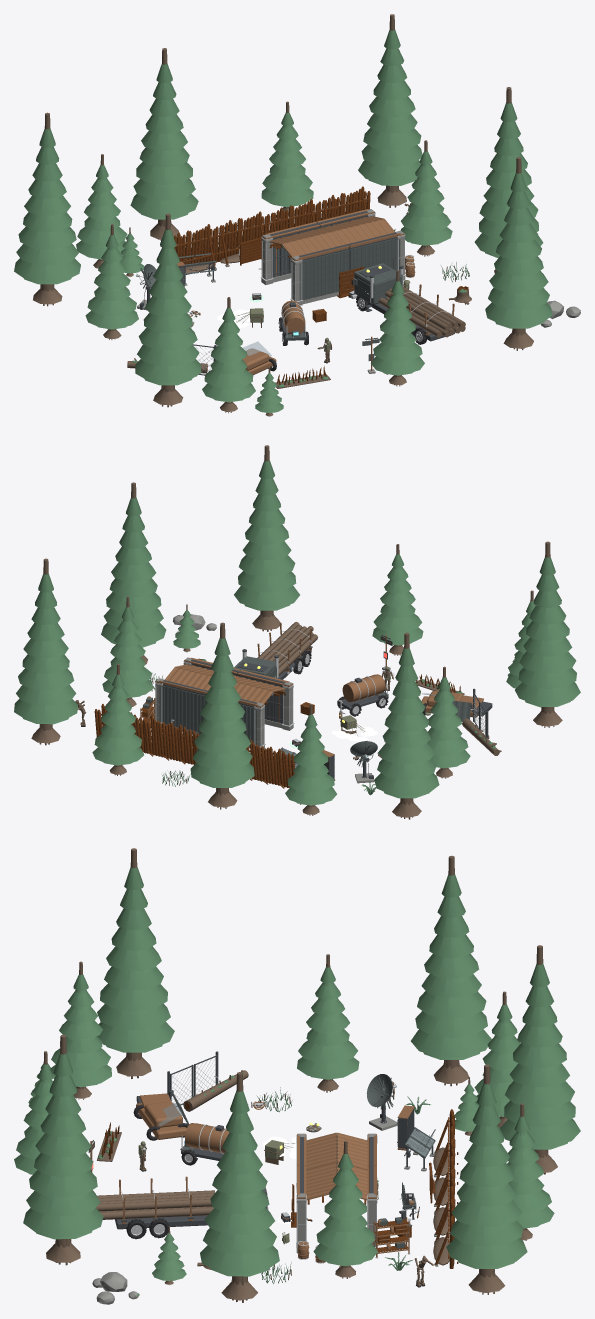
File: fps-survival-forest-outpost-roadside-landing-and-cache-57d2a1cb__32713.glb
3 renders of one model, top to bottom at view 1: azimuth 30°, elevation 25°; view 2: azimuth 150°, elevation 25°; view 3: azimuth 270°, elevation 25°, orthographic. The views are drawn at different scales.
Visible parts, largest first — view 1: 054-conifer-tall/1, 053-conifer-tall/1, 055-conifer-tall/1, 052-conifer-tall/1, 051-conifer-tall/1, 050-conifer-tall/1, 060-conifer-mid/1, 061-conifer-mid/1, 059-conifer-mid/1, 057-conifer-mid/1, 056-conifer-mid/1, 058-conifer-mid/1 (+20 smaller); view 2: 053-conifer-tall/1, 055-conifer-tall/1, 051-conifer-tall/1, 054-conifer-tall/1, 052-conifer-tall/1, 050-conifer-tall/1, 057-conifer-mid/1, 058-conifer-mid/1, 061-conifer-mid/1, 056-conifer-mid/1, 059-conifer-mid/1, 001-palisade-bay/0 (+15 smaller); view 3: 051-conifer-tall/1, 050-conifer-tall/1, 053-conifer-tall/1, 055-conifer-tall/1, 054-conifer-tall/1, 052-conifer-tall/1, 056-conifer-mid/1, 059-conifer-mid/1, 060-conifer-mid/1, 057-conifer-mid/1, 004-logging-truck/7, 058-conifer-mid/1 (+16 smaller).
Part boxes in pixels (bbox=[...]): 054-conifer-tall/1: bbox=[135, 229, 201, 385]; 053-conifer-tall/1: bbox=[14, 128, 80, 284]; 055-conifer-tall/1: bbox=[485, 172, 552, 328]; 052-conifer-tall/1: bbox=[130, 63, 198, 219]; 051-conifer-tall/1: bbox=[358, 29, 422, 185]; 050-conifer-tall/1: bbox=[474, 102, 543, 258]; 060-conifer-mid/1: bbox=[202, 308, 255, 402]; 061-conifer-mid/1: bbox=[371, 281, 424, 375]; 059-conifer-mid/1: bbox=[85, 235, 138, 329]; 057-conifer-mid/1: bbox=[261, 112, 313, 207]; 056-conifer-mid/1: bbox=[400, 151, 452, 245]; 058-conifer-mid/1: bbox=[76, 165, 127, 259]; 053-conifer-tall/1: bbox=[374, 648, 439, 798]; 055-conifer-tall/1: bbox=[234, 460, 299, 610]; 051-conifer-tall/1: bbox=[14, 573, 77, 724]; 054-conifer-tall/1: bbox=[515, 556, 580, 707]; 052-conifer-tall/1: bbox=[190, 638, 254, 787]; 050-conifer-tall/1: bbox=[101, 497, 166, 647]; 057-conifer-mid/1: bbox=[92, 674, 143, 765]; 058-conifer-mid/1: bbox=[285, 714, 336, 805]; 061-conifer-mid/1: bbox=[372, 554, 423, 645]; 056-conifer-mid/1: bbox=[102, 607, 153, 697]; 059-conifer-mid/1: bbox=[427, 677, 470, 768]; 001-palisade-bay/0: bbox=[144, 716, 195, 764]; 051-conifer-tall/1: bbox=[446, 1083, 527, 1268]; 050-conifer-tall/1: bbox=[200, 1090, 279, 1276]; 053-conifer-tall/1: bbox=[411, 874, 491, 1059]; 055-conifer-tall/1: bbox=[23, 1053, 103, 1239]; 054-conifer-tall/1: bbox=[97, 867, 174, 1052]; 052-conifer-tall/1: bbox=[499, 963, 580, 1149]; 056-conifer-mid/1: bbox=[313, 1153, 377, 1266]; 059-conifer-mid/1: bbox=[297, 967, 359, 1079]; 060-conifer-mid/1: bbox=[50, 974, 111, 1087]; 057-conifer-mid/1: bbox=[507, 1116, 554, 1228]; 004-logging-truck/7: bbox=[96, 1190, 214, 1219]; 058-conifer-mid/1: bbox=[474, 1004, 520, 1116].
Size of the model in its own units: 34.61 by 14.14 by 32.13.
16 materials, 3 textured.
